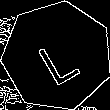L_NW: (30, 26, 83, 86)
